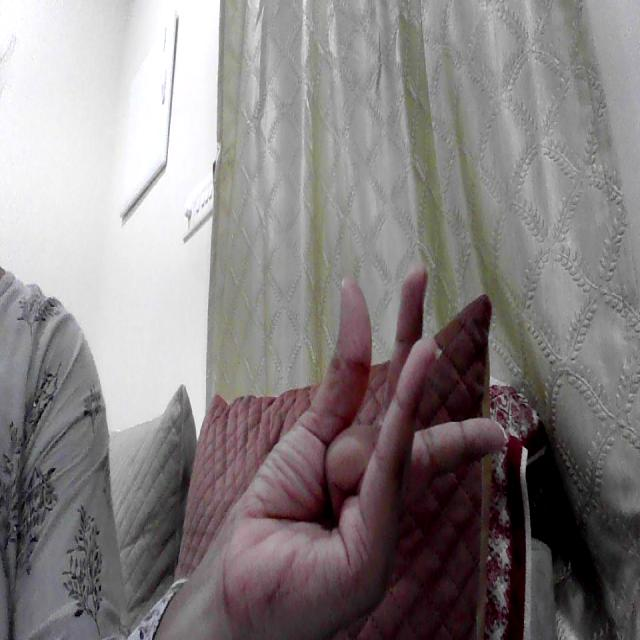Kangula: (220, 235, 518, 640)
